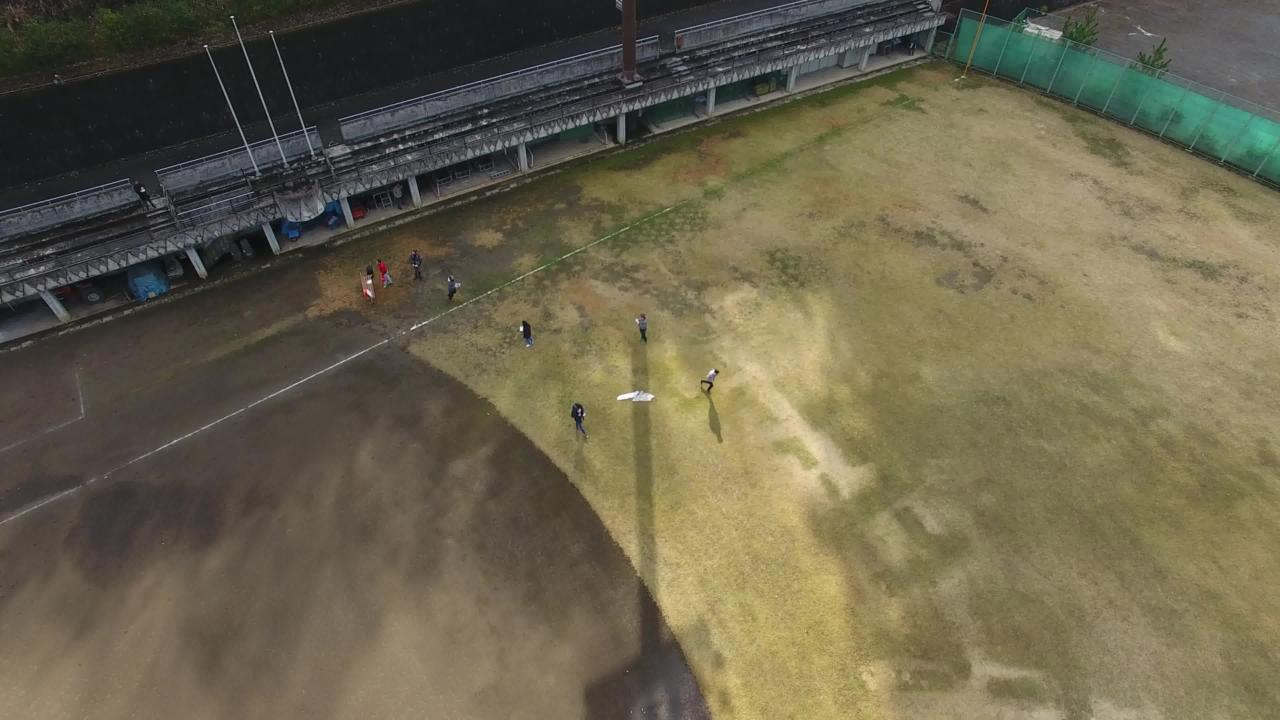person: (561, 398, 598, 450), (694, 357, 731, 409), (627, 300, 664, 352), (505, 311, 542, 363), (128, 175, 156, 221), (438, 269, 467, 307), (402, 244, 431, 282), (389, 171, 414, 214), (898, 23, 923, 66), (374, 256, 391, 289), (364, 257, 375, 284)
